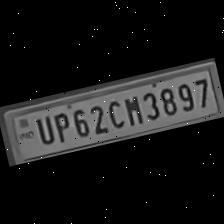2: (84, 101, 110, 136)
3: (138, 88, 162, 124)
6: (67, 104, 92, 139)
7: (190, 75, 214, 110)
8: (154, 83, 180, 118)
9: (172, 79, 196, 114)
C: (102, 96, 126, 131)
M: (119, 92, 145, 128)
P: (49, 108, 73, 144)
U: (32, 113, 56, 146)
